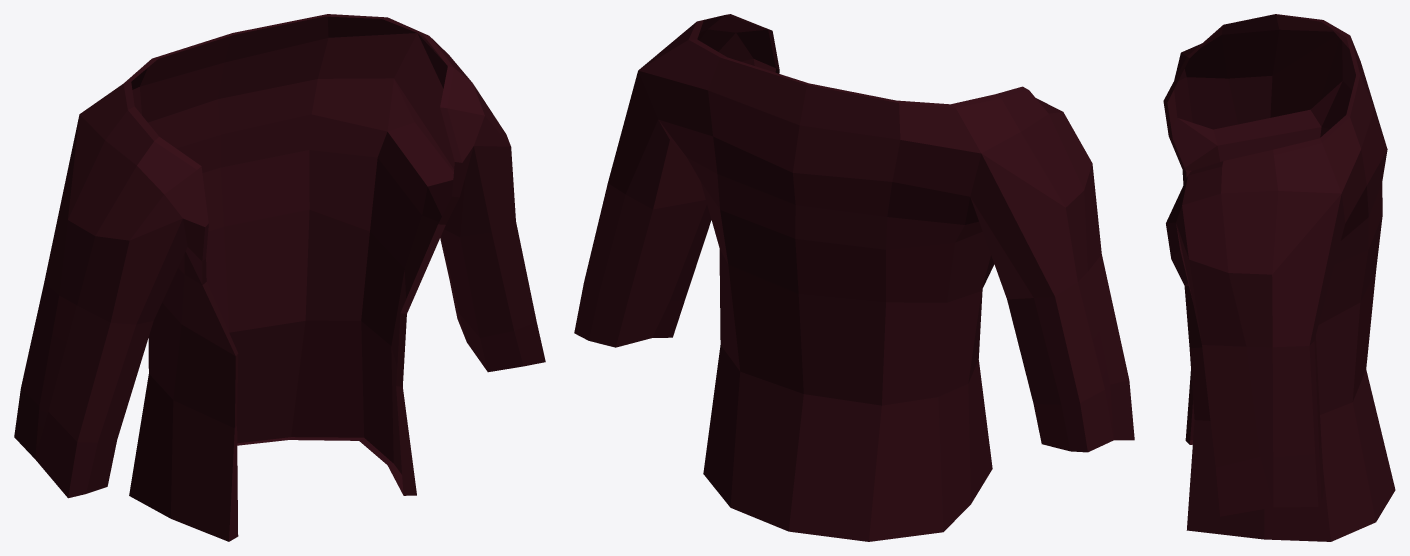
Rendered from Jacket.obj.
The picture shows the model from 3 angles, left to right: view 1: azimuth 30°, elevation 25°; view 2: azimuth 150°, elevation 25°; view 3: azimuth 270°, elevation 25°; orthographic projection. The views are drawn at different scales.
Bounding box in the file's own units: 0.5646 × 0.4619 × 0.233.
